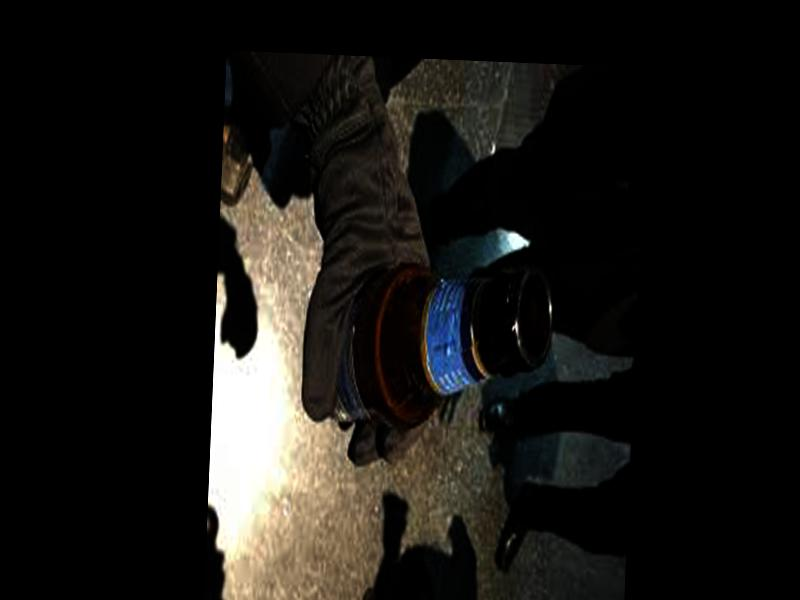Beer: (314, 254, 555, 442)
